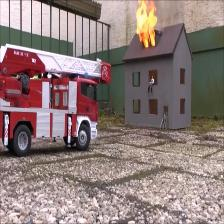fire: (136, 0, 158, 48)
